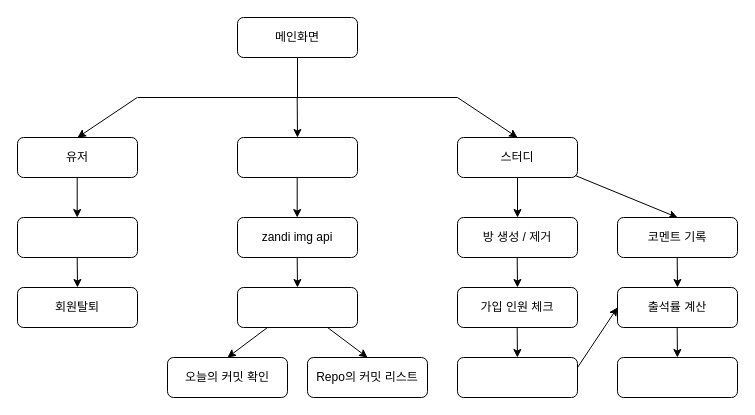
The diagram is 755 pixels wide and 415 high, and some of its shapes have lost their labels. Here are the shapes that lost their labels. From the top down, the centre of each, then its label:
(x=297, y=157): 레파지토리
(x=77, y=237): 회원가입/ 로그인
(x=297, y=307): 깃허브 RepoList
(x=517, y=377): 스터디 기간 계산
(x=677, y=377): 잔디 Trophy 생성
